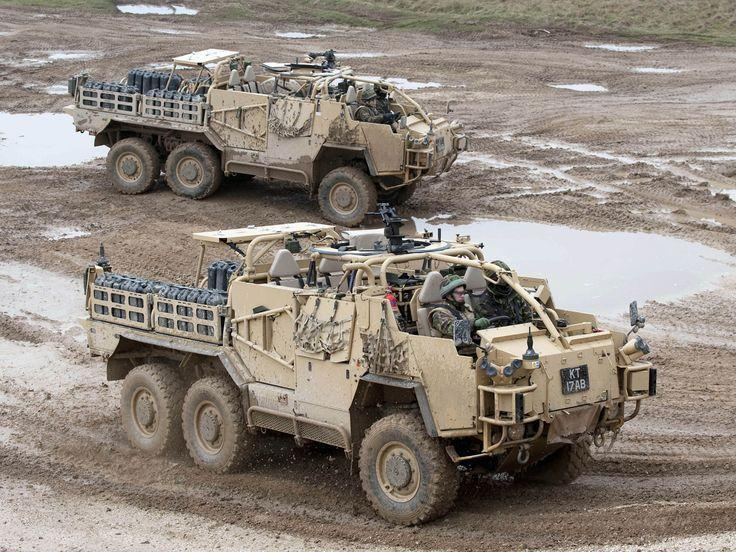armored_car: (78, 228, 659, 526), (68, 34, 478, 224)
